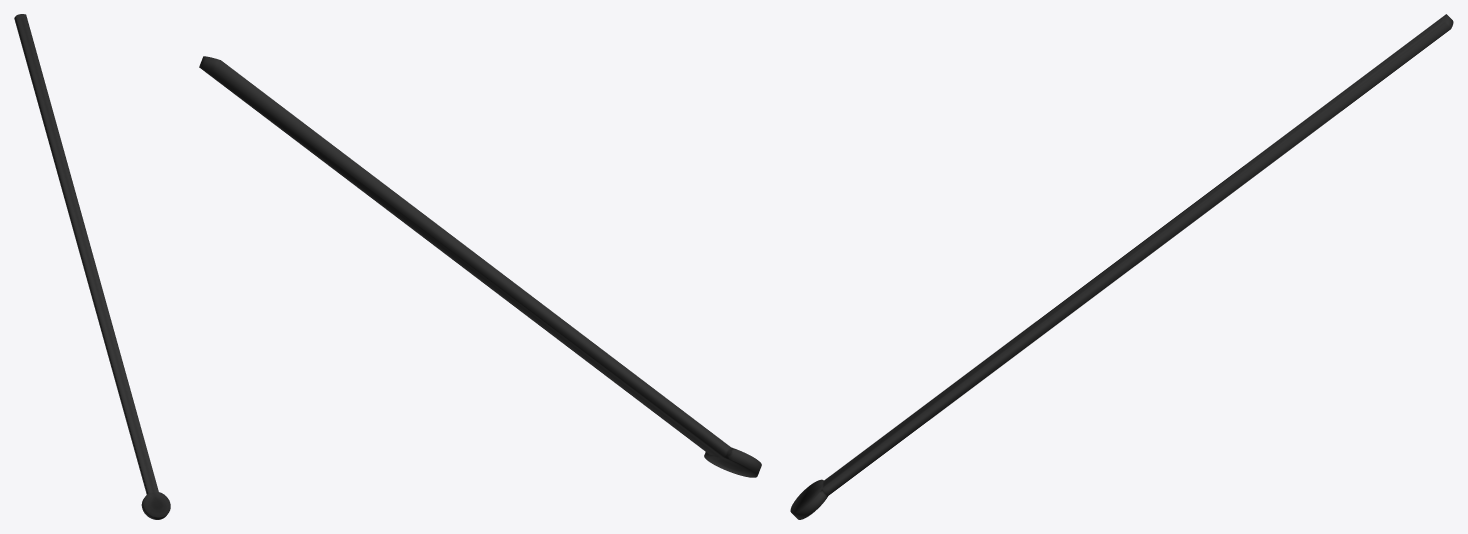
File: Needle.fbx
3 renders of one model, left to right at view 1: azimuth 30°, elevation 25°; view 2: azimuth 150°, elevation 25°; view 3: azimuth 270°, elevation 25°, orthographic. The views are drawn at different scales.
Visible parts, largest first — view 1: Galvanometer Needle; view 2: Galvanometer Needle; view 3: Galvanometer Needle.
Part boxes in pixels (left/top/right/bottom): Galvanometer Needle: left=14, top=14, right=170, bottom=519; Galvanometer Needle: left=199, top=56, right=761, bottom=477; Galvanometer Needle: left=790, top=14, right=1453, bottom=519.
Size of the model in its own units: 11.16 by 45.66 by 49.98.
Materials: 1 (1 with a texture image).
